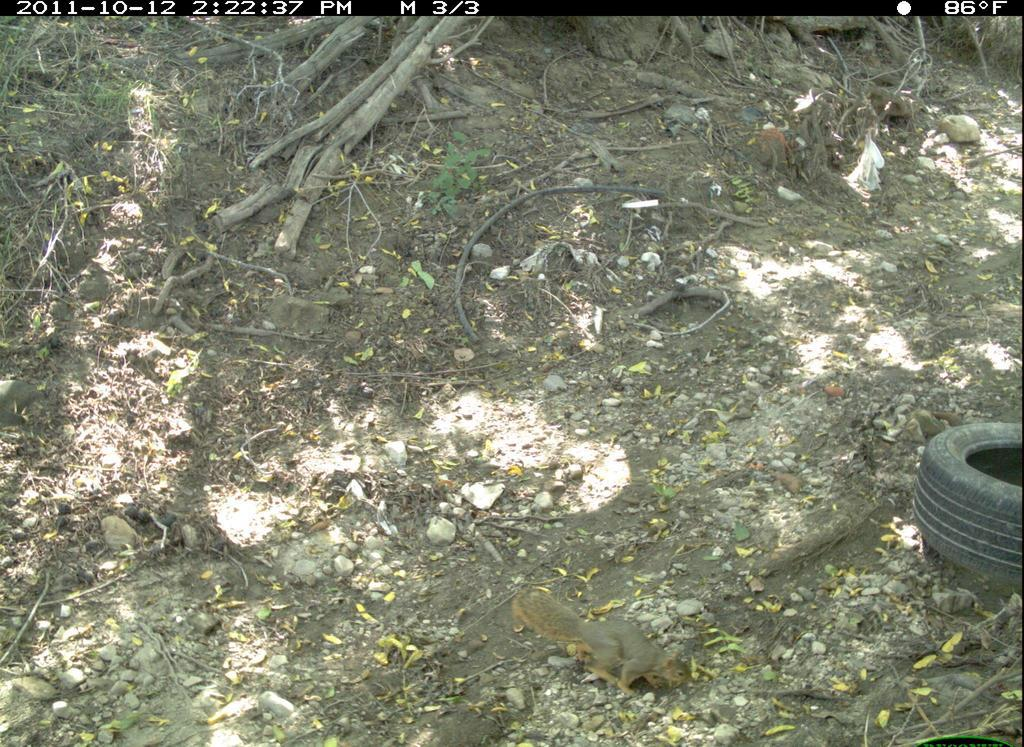squirrel: (507, 582, 693, 705)
